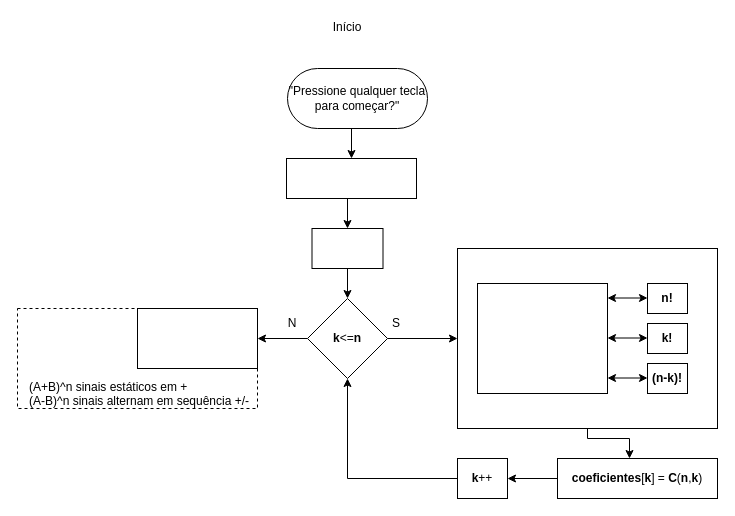
Image size: 735x516. Some labels were removed from this diagram. Here are the shapes that lost their labels. From the top down, the centre of each, then its label:
At point 351,178: "coeficientes [0:n] = ?".
At point 347,248: "k = 0".
At point 197,338: "Imprimir polinômios expandidos com coeficientes".
At point 542,338: "combinação simples ( n , k ) = C ( n , k )= n !/(( n - k )!* k !)".
